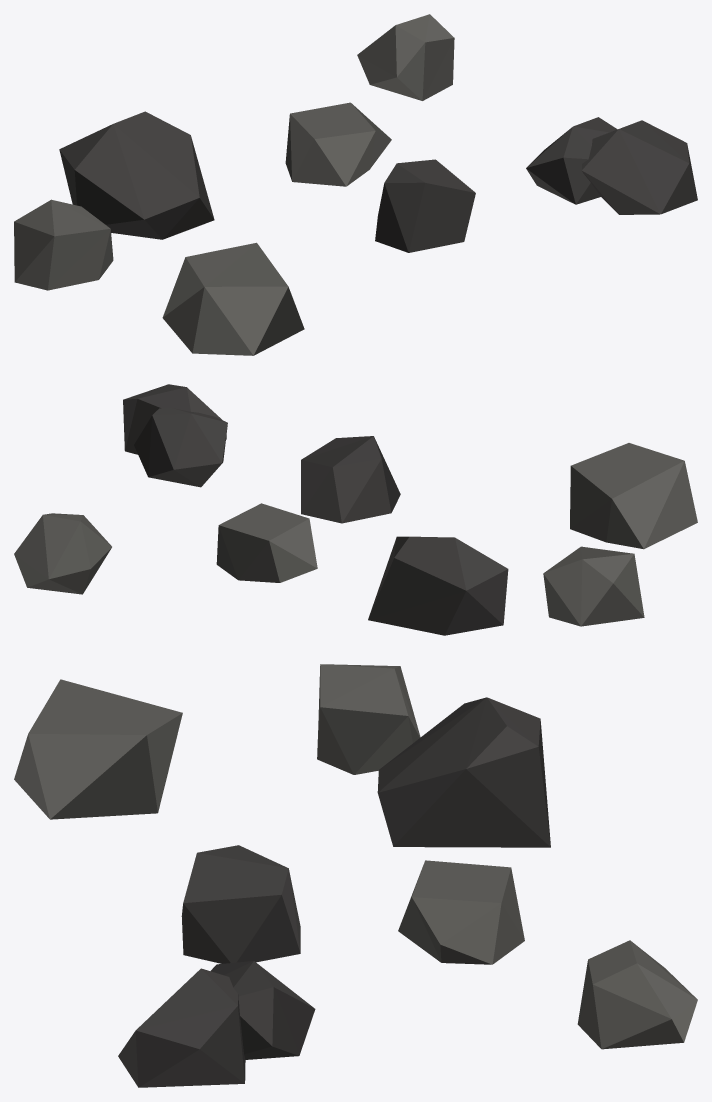
Rendered from enchanted_SM_Env_Rock_Pebbles_06.gltf.
3 renders of one model, top to bottom at view 1: azimuth 30°, elevation 25°; view 2: azimuth 150°, elevation 25°; view 3: azimuth 270°, elevation 25°, orthographic. The views are drawn at different scales.
Visible parts, largest first — view 1: SM_Env_Rock_Pebbles_06; view 2: SM_Env_Rock_Pebbles_06; view 3: SM_Env_Rock_Pebbles_06.
Part boxes in pixels (<box>): SM_Env_Rock_Pebbles_06: <box>14,14,697,355</box>; SM_Env_Rock_Pebbles_06: <box>14,384,697,635</box>; SM_Env_Rock_Pebbles_06: <box>14,664,697,1087</box>.
Bounding box in the file's own units: 0.8359 × 0.1192 × 0.6334.
1 material, 1 textured.
